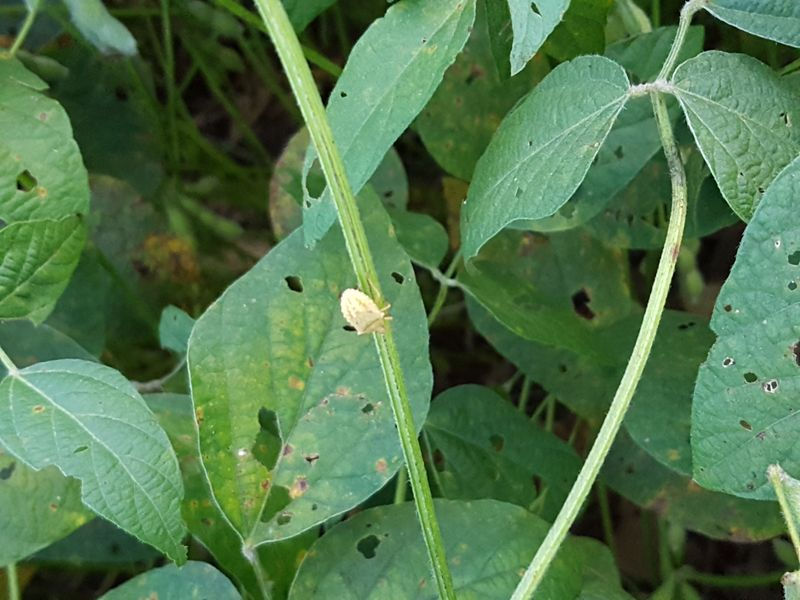Euschistus_heros_ninfa: (328, 270, 405, 344)
